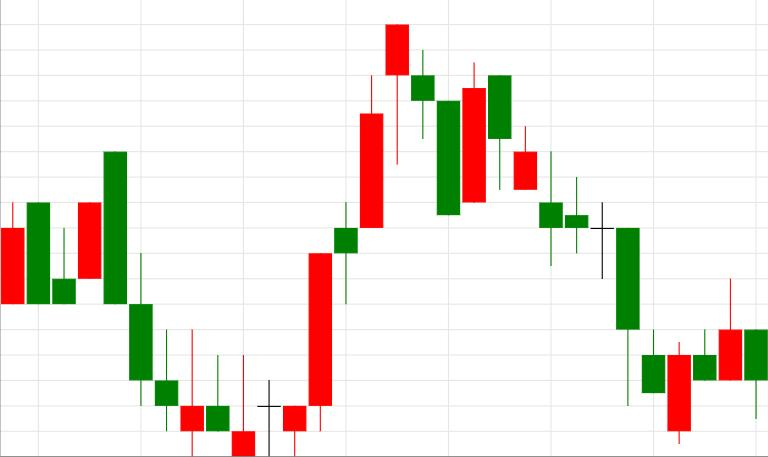hanging_man_fall: (232, 26, 408, 456)
